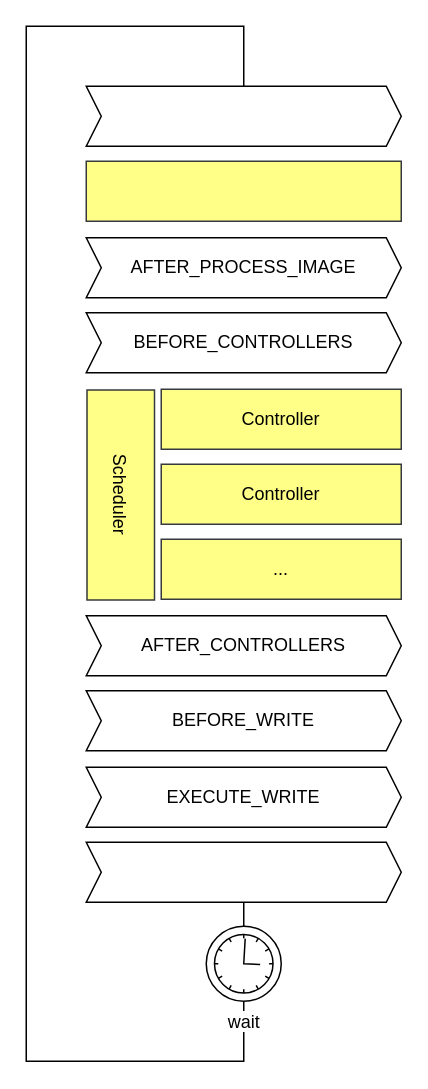
Image size: 428x1089. Some labels were removed from this diagram. The centre of each missing label's shape, as x and y in pixels:
"AFTER_WRITE" goes at [243,871].
"BEFORE_PROCESS_IMAGE" goes at [243,115].
"Switch Process Image" goes at [243,190].
